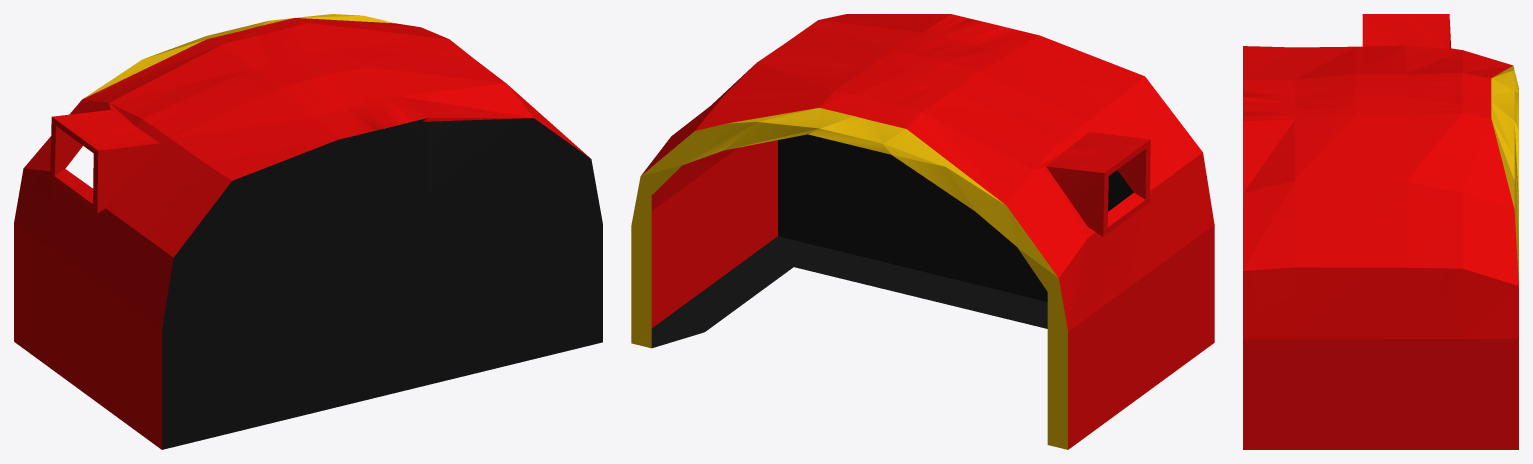
File: Cowl.1cFR.Export.glb
The picture shows the model from 3 angles, left to right: view 1: azimuth 30°, elevation 25°; view 2: azimuth 150°, elevation 25°; view 3: azimuth 270°, elevation 25°; orthographic projection. The views are drawn at different scales.
Parts seen in each view (by area): view 1: Cube.00FR; view 2: Cube.00FR; view 3: Cube.00FR.
Boxes of the visible parts, x1,y1,x2,y2 form: Cube.00FR: (14,14,602,449); Cube.00FR: (631,14,1214,449); Cube.00FR: (1243,14,1518,449).
Size of what is drawn, in the model's own units: 0.9375 by 0.5612 by 0.5445.
